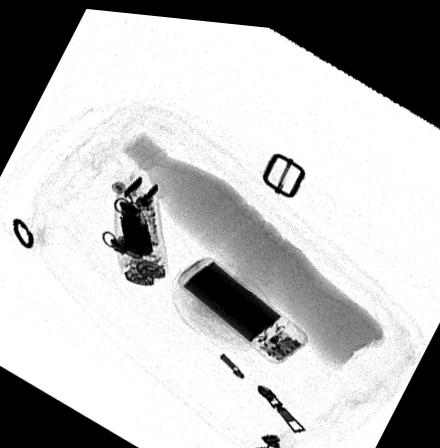Powerbank: (174, 249, 310, 357)
